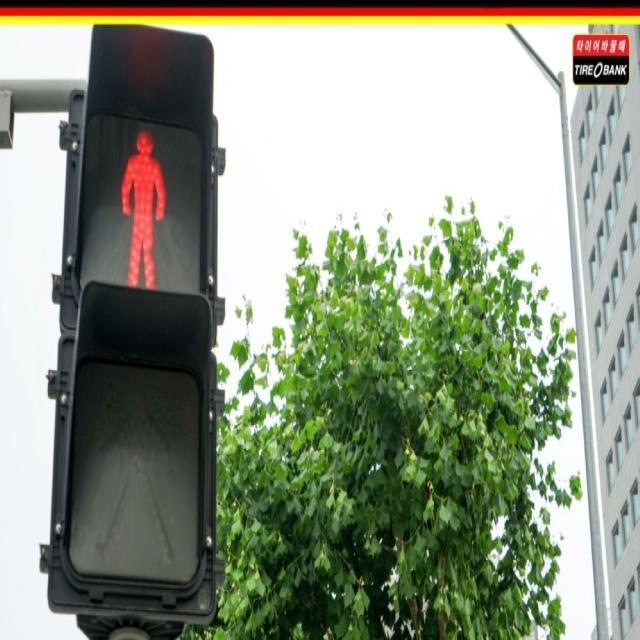red_light: (94, 120, 190, 293)
